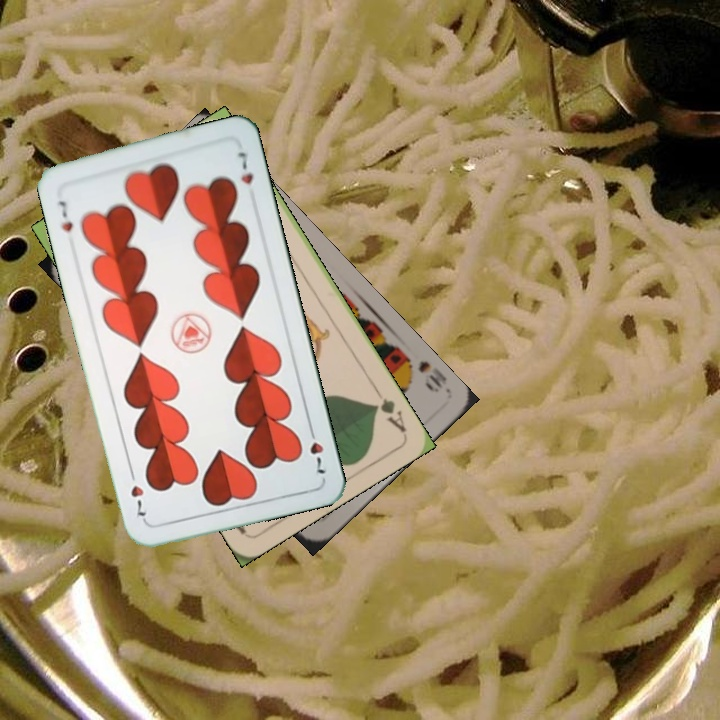GA: (368, 383, 409, 436)
H7: (304, 421, 328, 477), (52, 196, 76, 235)
S10: (398, 351, 450, 395)
